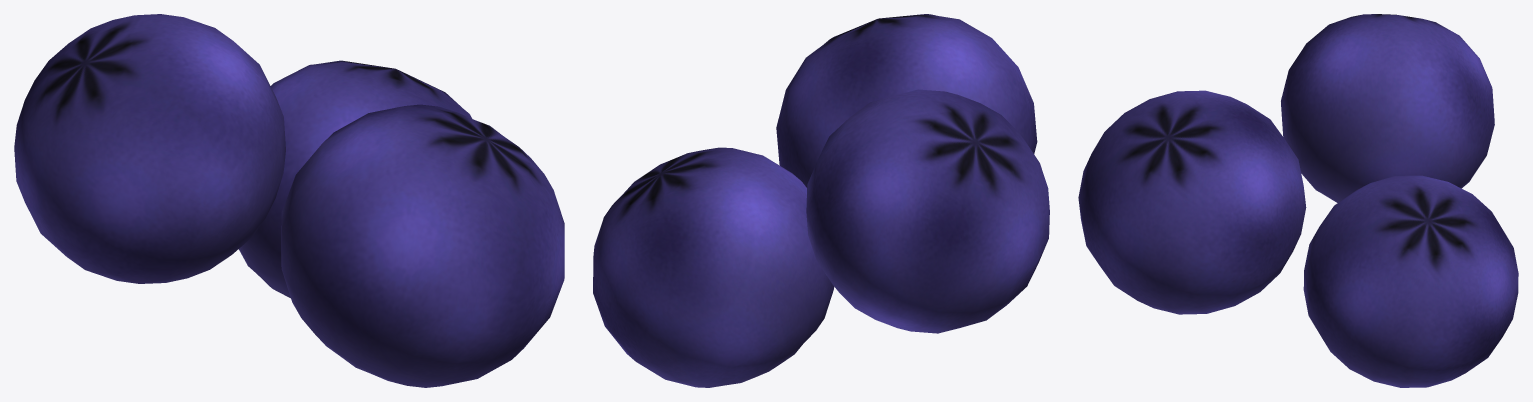
File: blueberries.fbx
3 renders of one model, left to right at view 1: azimuth 30°, elevation 25°; view 2: azimuth 150°, elevation 25°; view 3: azimuth 270°, elevation 25°, orthographic. The views are drawn at different scales.
Visible parts, largest first — view 1: blueberry, blueberry_1, blueberry_2; view 2: blueberry_1, blueberry_2, blueberry; view 3: blueberry, blueberry_2, blueberry_1.
Part boxes in pixels (x1,y1,x2,y2): blueberry: (281,104,564,387); blueberry_1: (14,14,285,283); blueberry_2: (239,60,472,298); blueberry_1: (806,89,1049,333); blueberry_2: (593,147,834,387); blueberry: (776,14,1037,187); blueberry: (1078,90,1306,314); blueberry_2: (1303,175,1518,387); blueberry_1: (1281,14,1494,202).
Size of the model in its own units: 270 by 196 by 286.
Materials: 1 (1 with a texture image).
